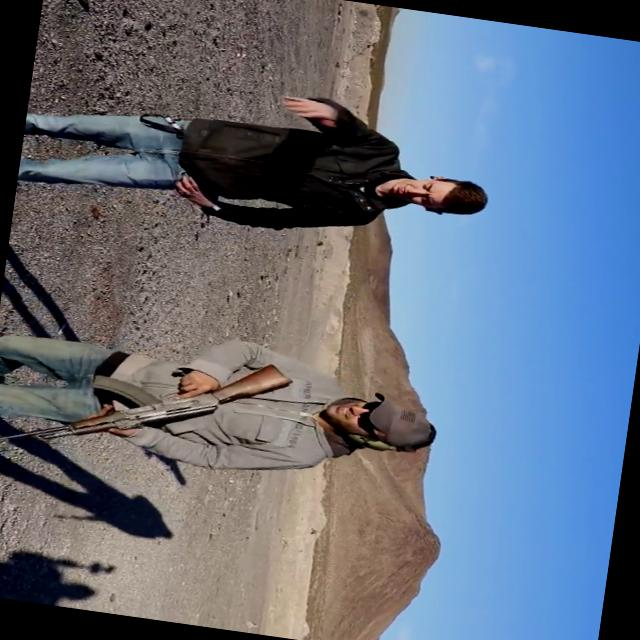long weapon: (0, 323, 304, 502)
